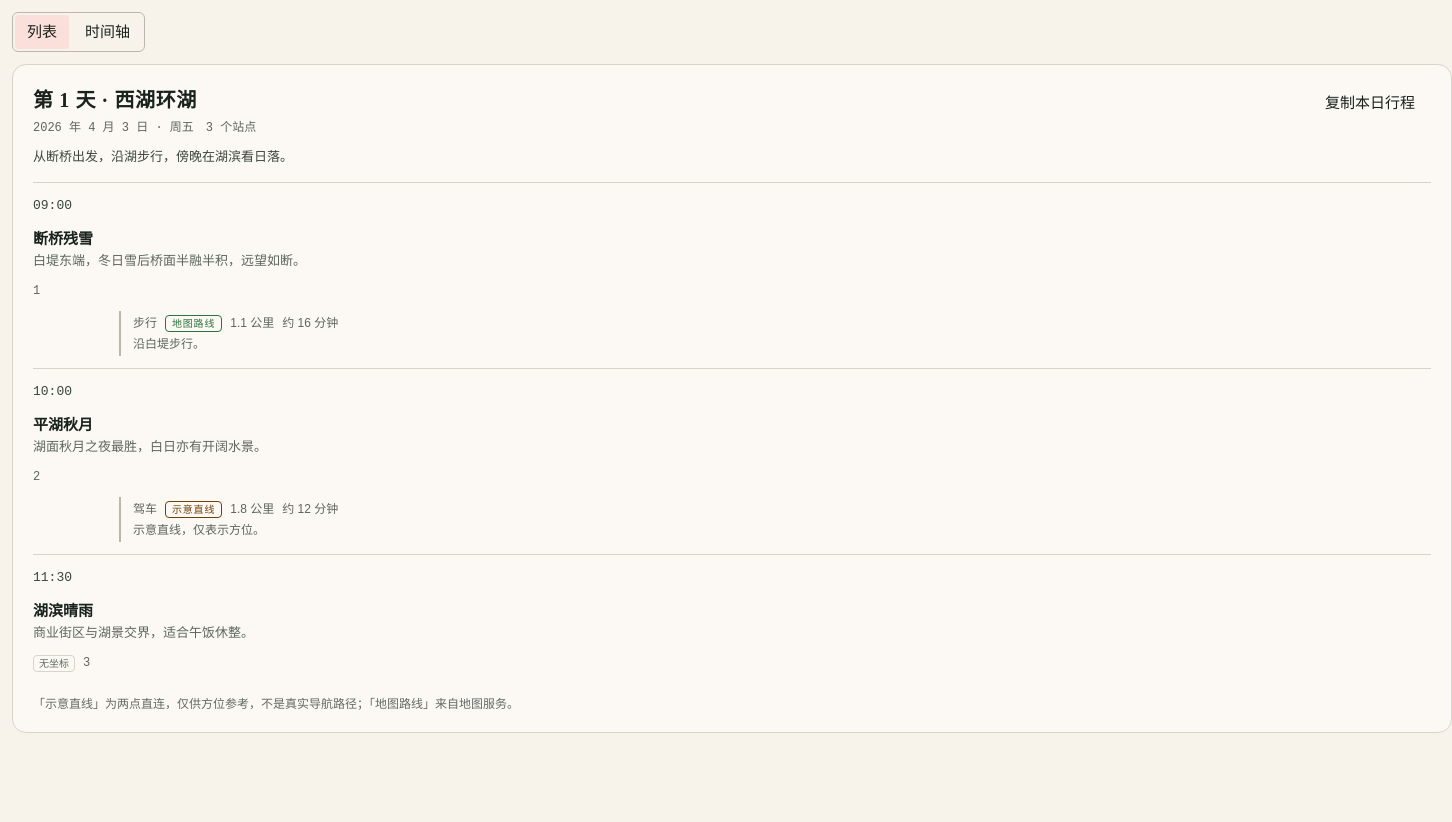
it: ItineraryView · 视图切换 › 点「时间轴」切到时间轴，点「列表」再切回
Click the button "时间轴" at (108, 32), box [73,15,142,48]
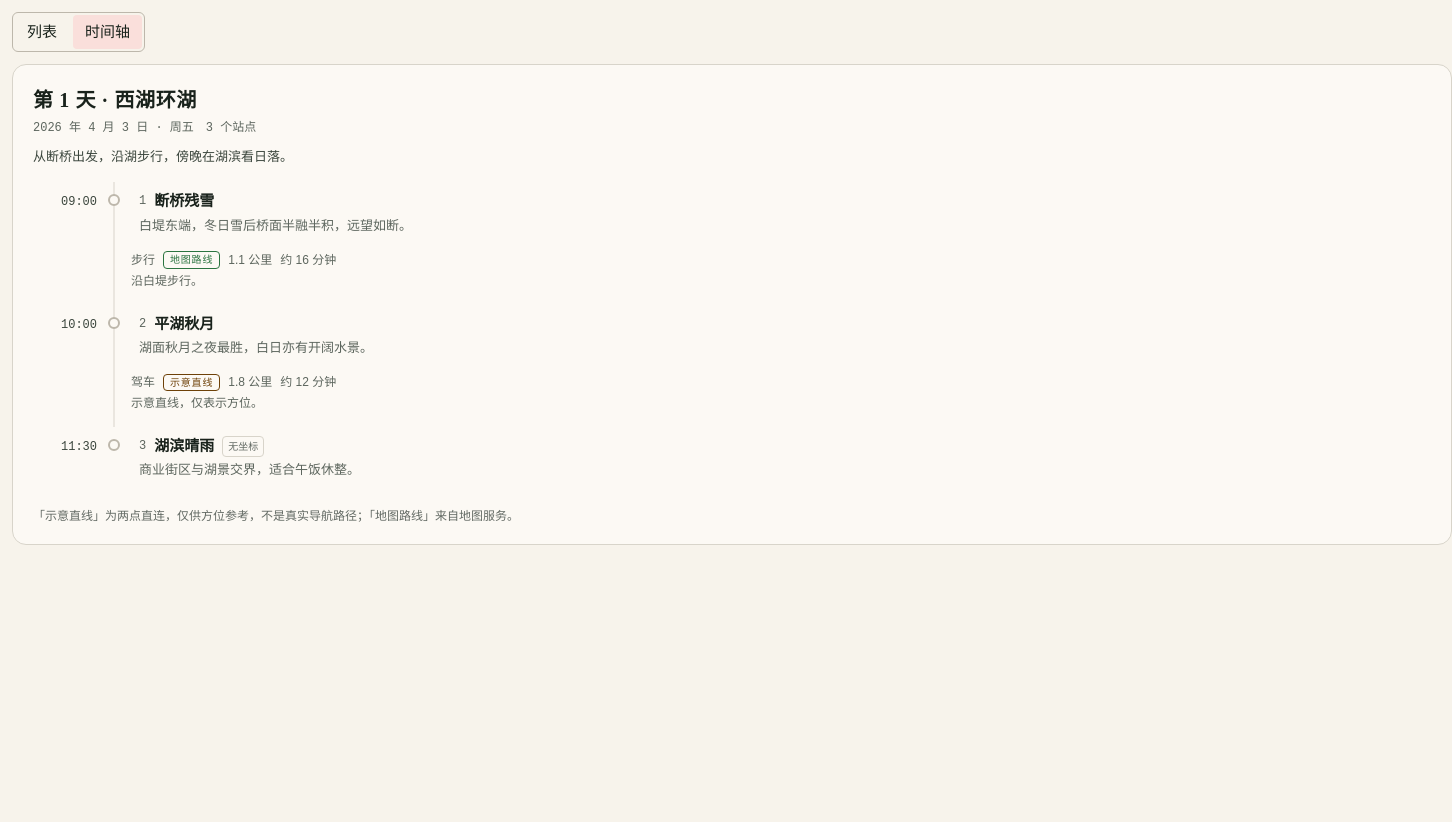
Now the number of buttons with test id "timeline-stop" is 3, box [131,182,1431,243]; [131,305,1431,366]; [131,427,1431,488]
Now no buttons with test id "stop-row" are shown
Click the button "列表" at (42, 32), box [15,15,69,48]
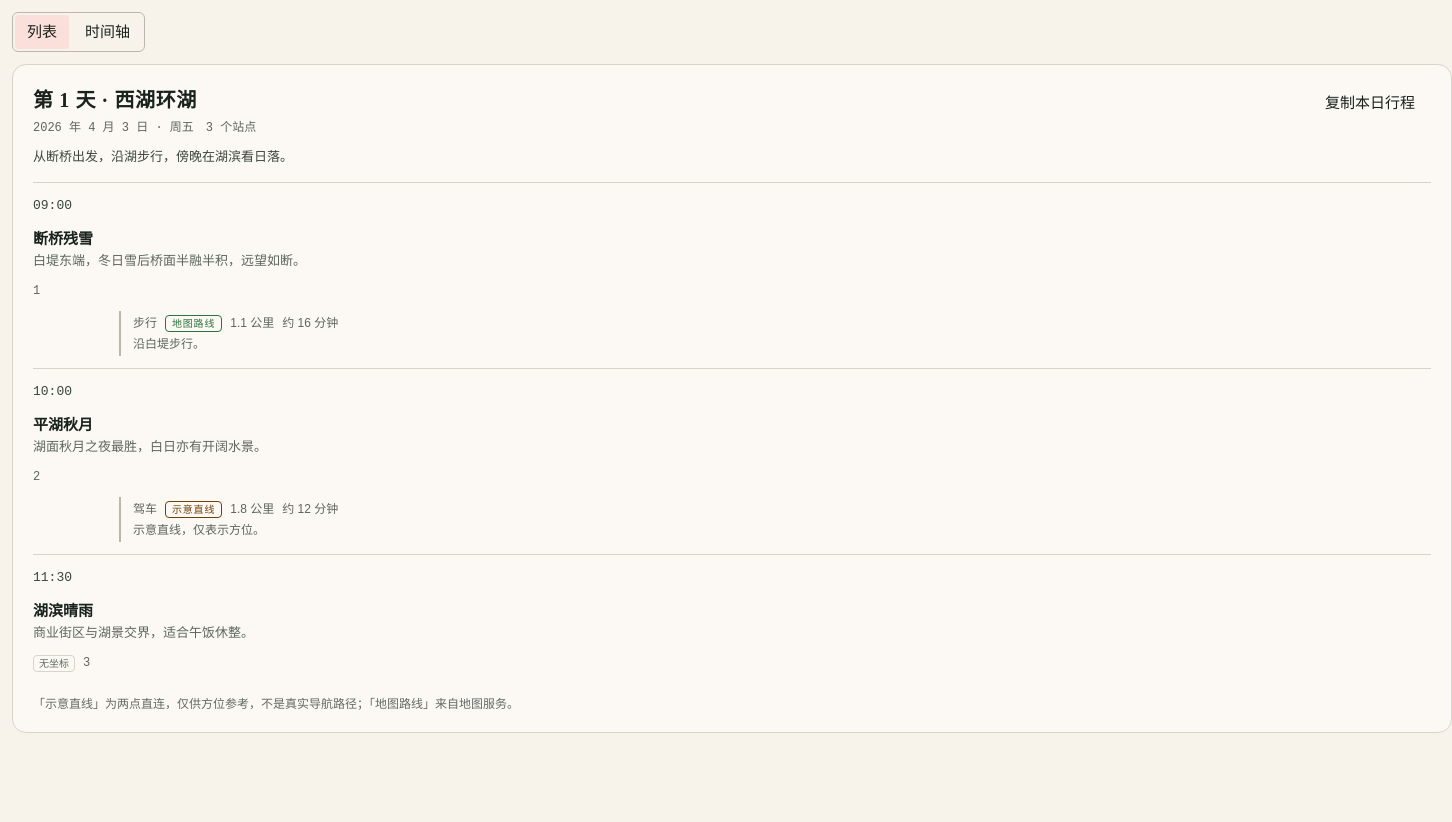
Now the number of buttons with test id "stop-row" is 3, box [33,182,1431,311]; [33,368,1431,497]; [33,554,1431,684]
Now no buttons with test id "timeline-stop" are shown
